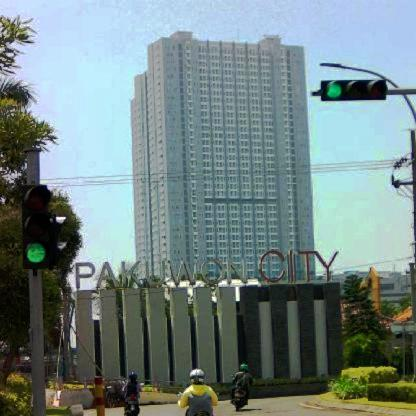Traffic Light -Green-: (21, 183, 50, 270), (320, 77, 388, 103)
